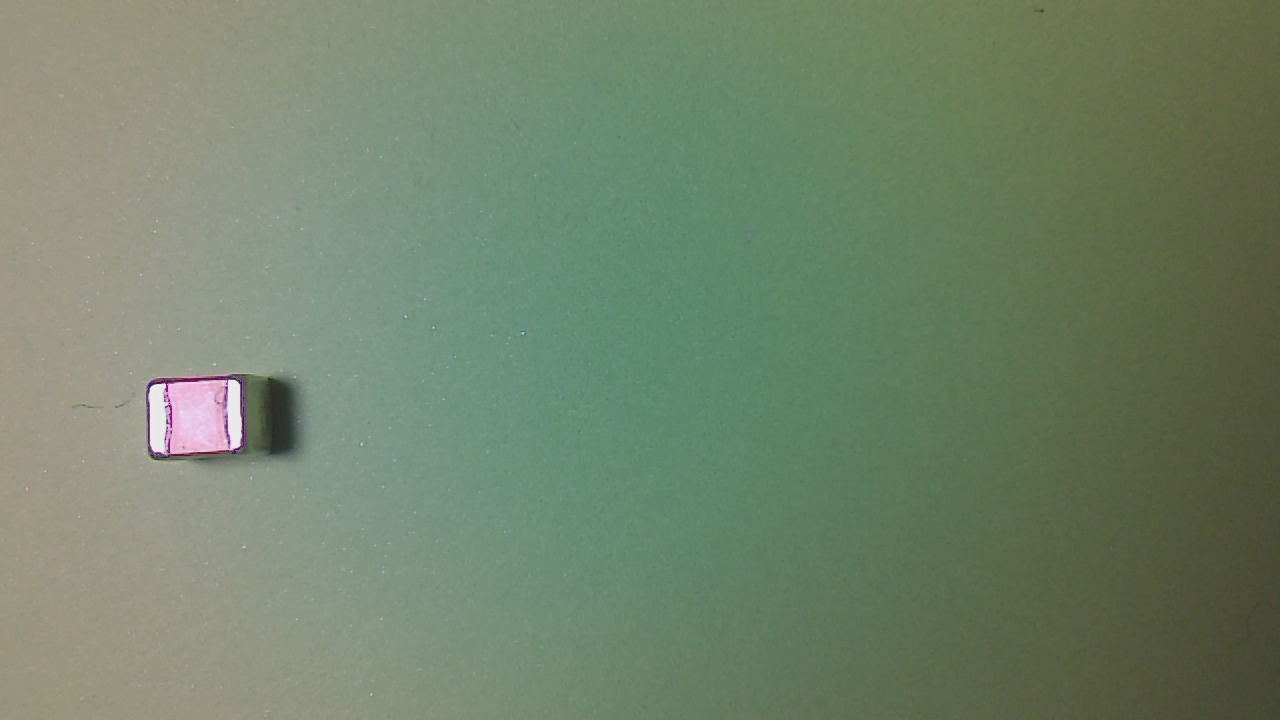Condensator: (148, 378, 255, 462)
